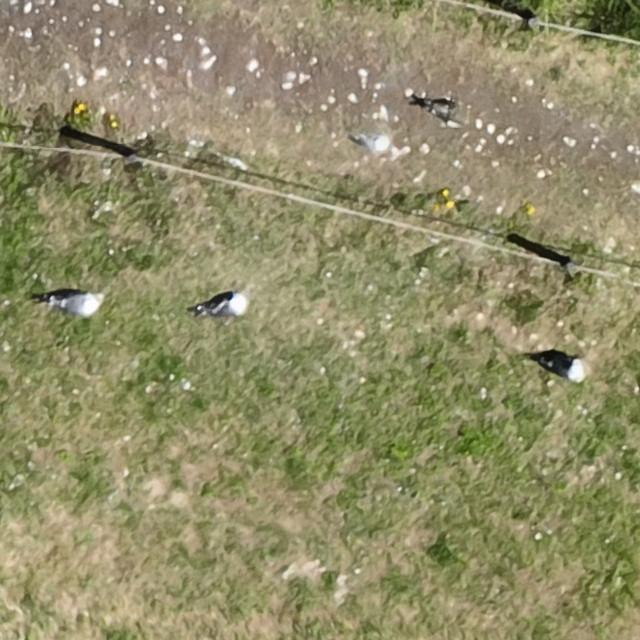umineko: (356, 134, 402, 154), (54, 295, 98, 315), (542, 358, 582, 380), (212, 296, 245, 317)
